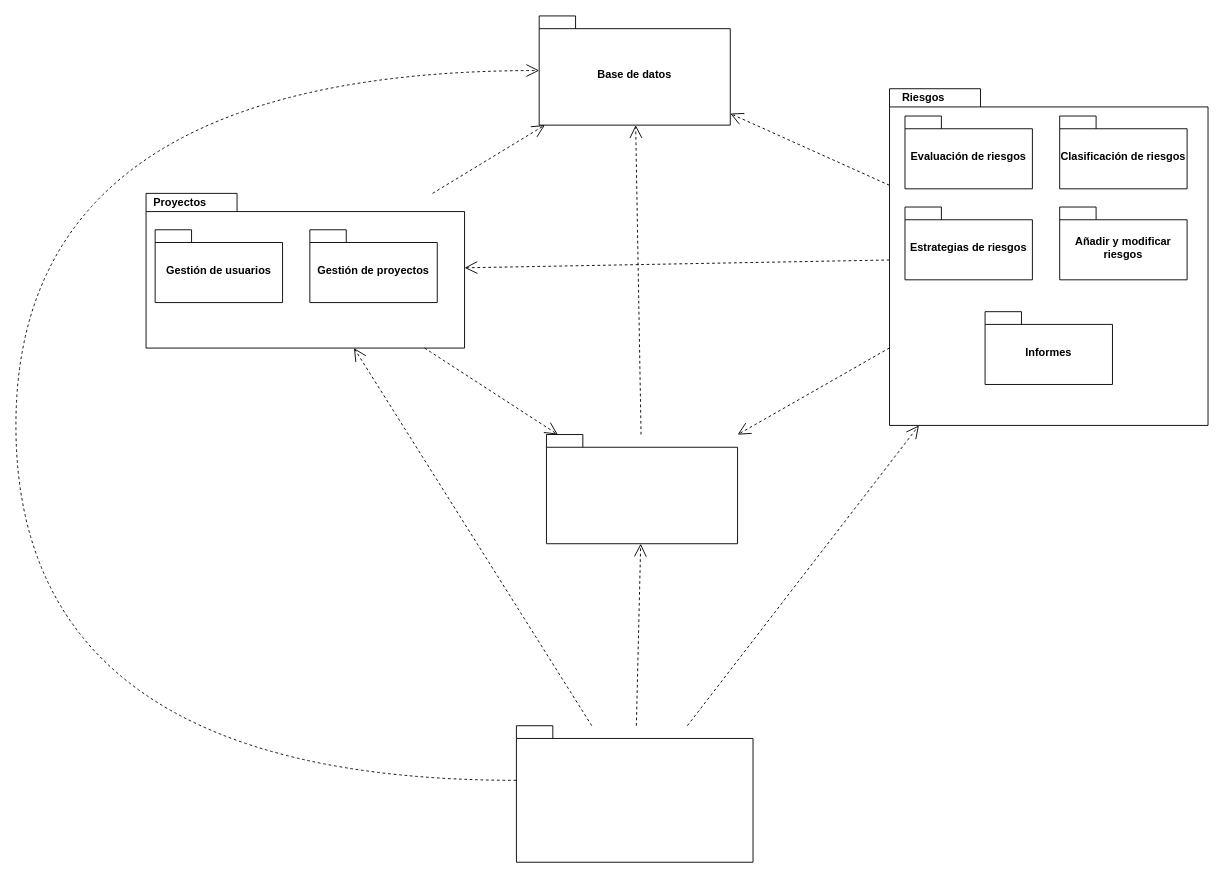
Some shapes in this 1224 by 878 pixel diagram are drawn without their labels. The shapes that lost their labels are listed below. From the top down, each one's centre as x and y in pixels, then its label:
At (x=642, y=489): "Autentificarse (UargFlow)".
At (x=634, y=793): "Exportar metricas".
